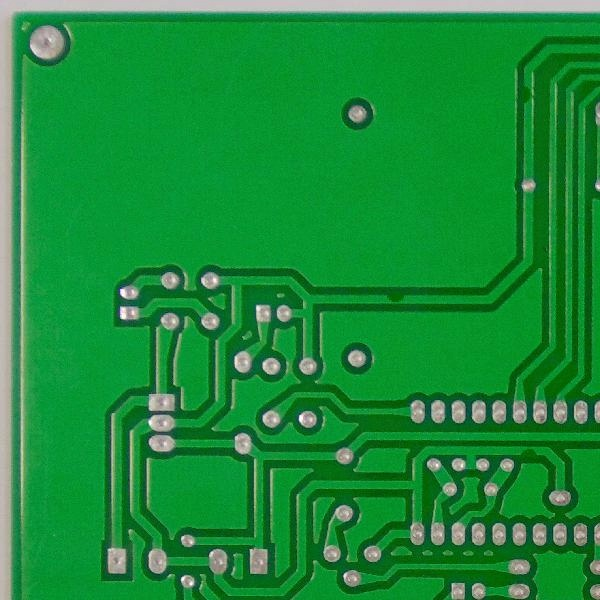mouse_bite: (516, 444, 542, 461), (520, 81, 536, 108), (383, 290, 410, 305)
